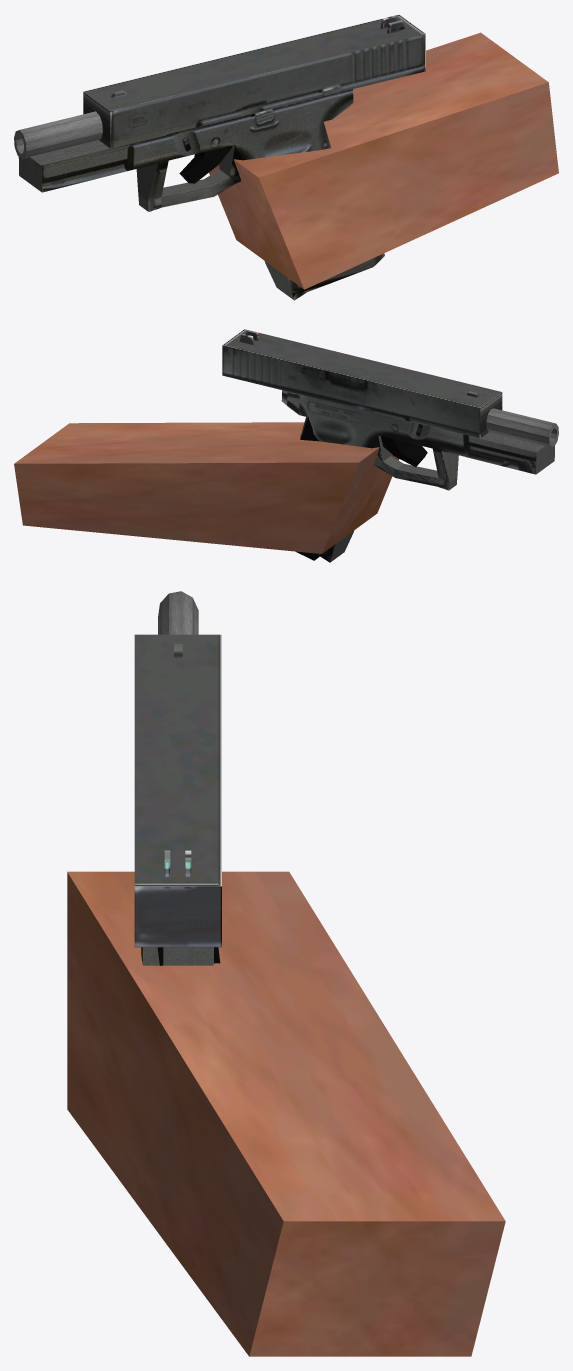
Rendered from pistol_000043.obj.
The picture shows the model from 3 angles, top to bottom: view 1: azimuth 30°, elevation 25°; view 2: azimuth 150°, elevation 25°; view 3: azimuth 270°, elevation 25°; orthographic projection. The views are drawn at different scales.
Parts seen in each view (by area): view 1: Cube, Cube.001, Cube.003; view 2: Cube, Cube.001, Cube.003, Cube.002; view 3: Cube, Cube.001.
Boxes of the visible parts, x1,y1,x2,y2 form: Cube: (14, 32, 558, 300); Cube.001: (83, 14, 425, 148); Cube.003: (179, 145, 231, 183); Cube: (14, 390, 558, 562); Cube.001: (222, 329, 502, 438); Cube.003: (381, 436, 427, 467); Cube.002: (296, 417, 320, 560); Cube: (67, 591, 505, 1356); Cube.001: (134, 634, 221, 947).
Bounding box in the file's own units: 1.74 × 0.735 × 0.7214.
